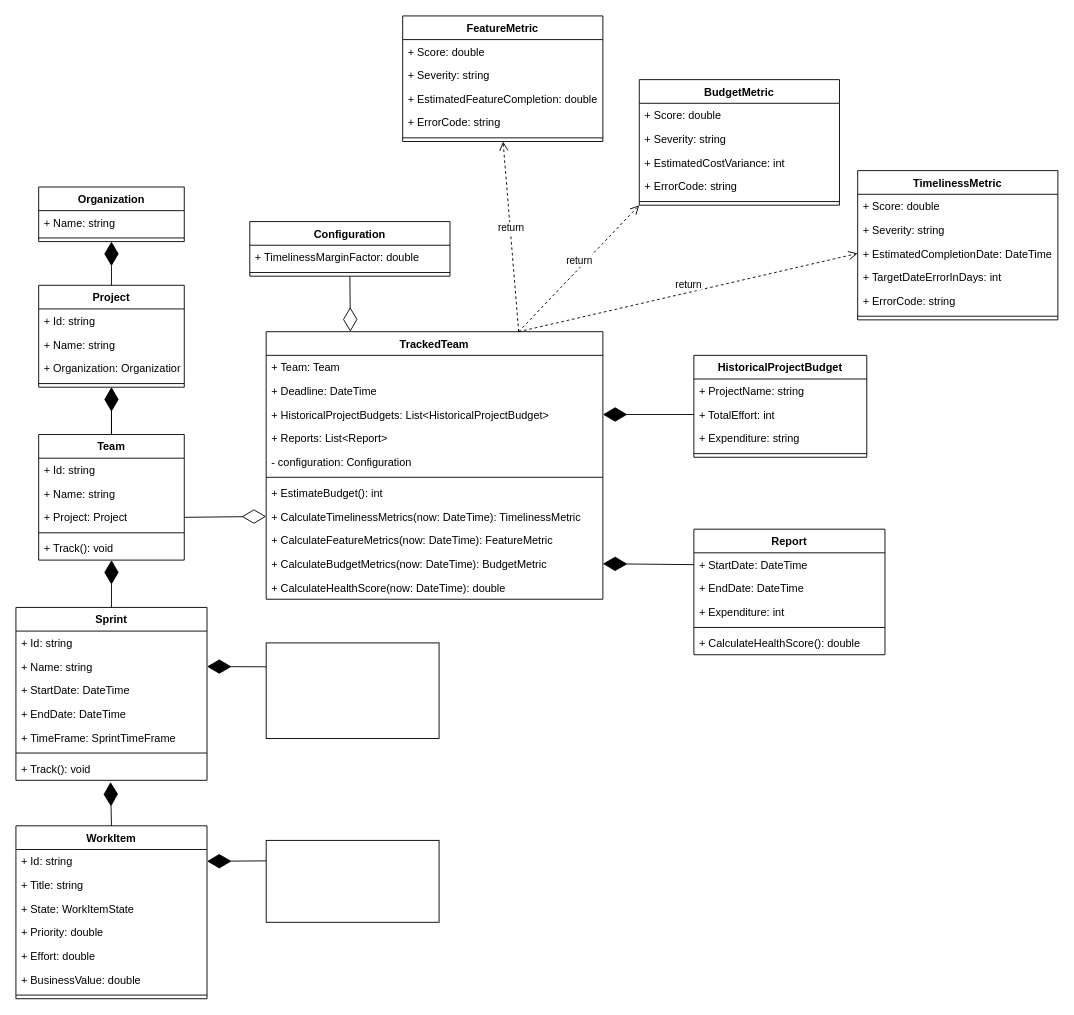
This 1074x1015 diagram has some shape labels left out. The shapes that lost their labels are listed below. From the top down, each one's centre as x and y in pixels, then its label:
At (352,690): "<<Enum>> SprintTimeFrame Past Current Future Unknown".
At (352,880): "<<Enum>> WorkItemState New Done Unknown".
